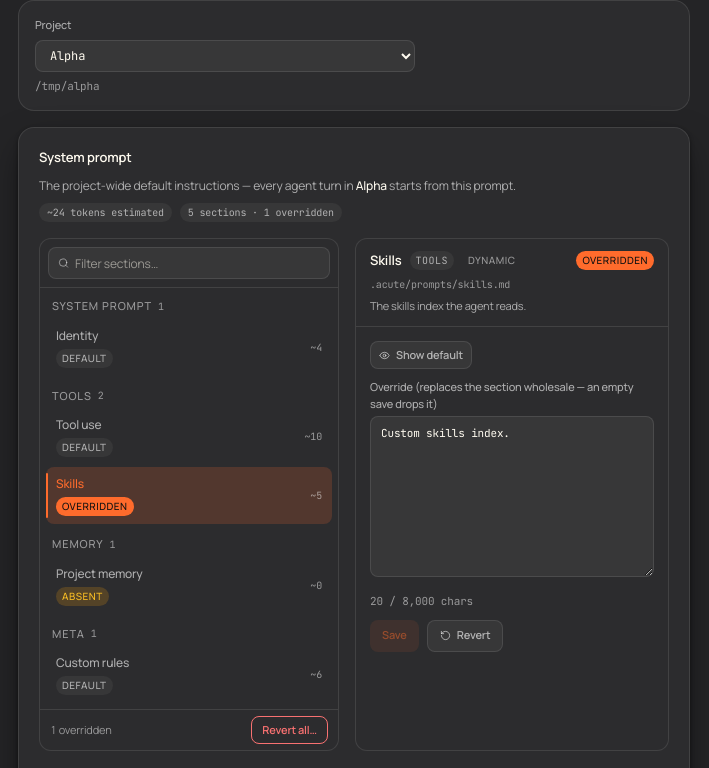
PromptsTab (ROUND-99 R99-F — the project-wide system prompt redesign) › the detail pane: the first OVERRIDDEN section is the default selection — header (title + bucket + dynamic/static + status), the mono file line, the description;
Check: the text box named "Edit the override for skills" holds "Custom skills index.", box [370,416,654,577]
Check: the text with test id "prompt-bucket-skills" reads "tools", box [416,254,448,267]
Note: Selecting another row swaps the editor + the header + the active row.
Click the button with aria-label "Select section identity": coordinates (77, 335) [46,318,332,376]
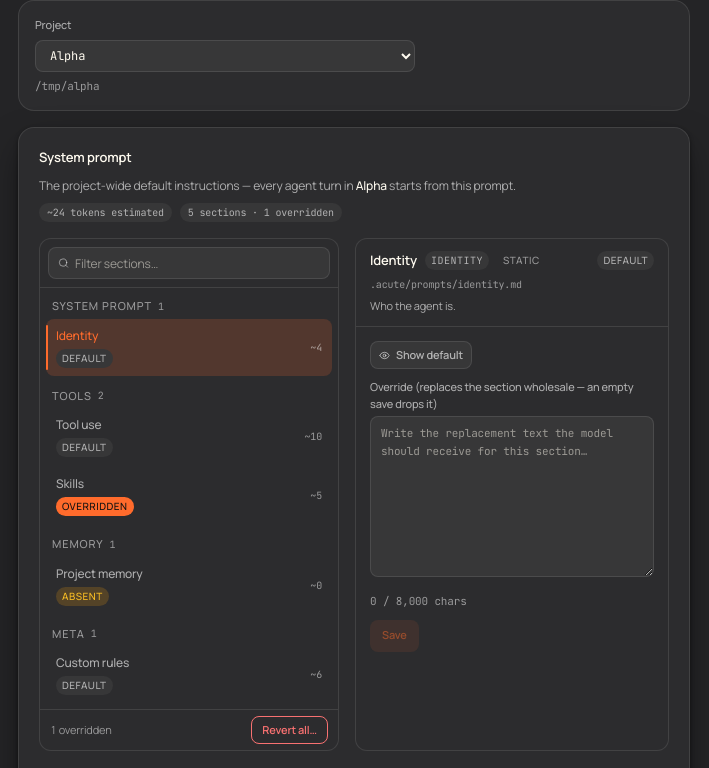
Check: the text box named "Edit the override for identity" is shown, box [370,416,654,577]
Check: the text with test id "prompt-bucket-identity" reads "identity", box [431,254,483,267]
Check: the text with test id "prompt-detail-kind-identity" reads "static", box [503,253,540,267]
